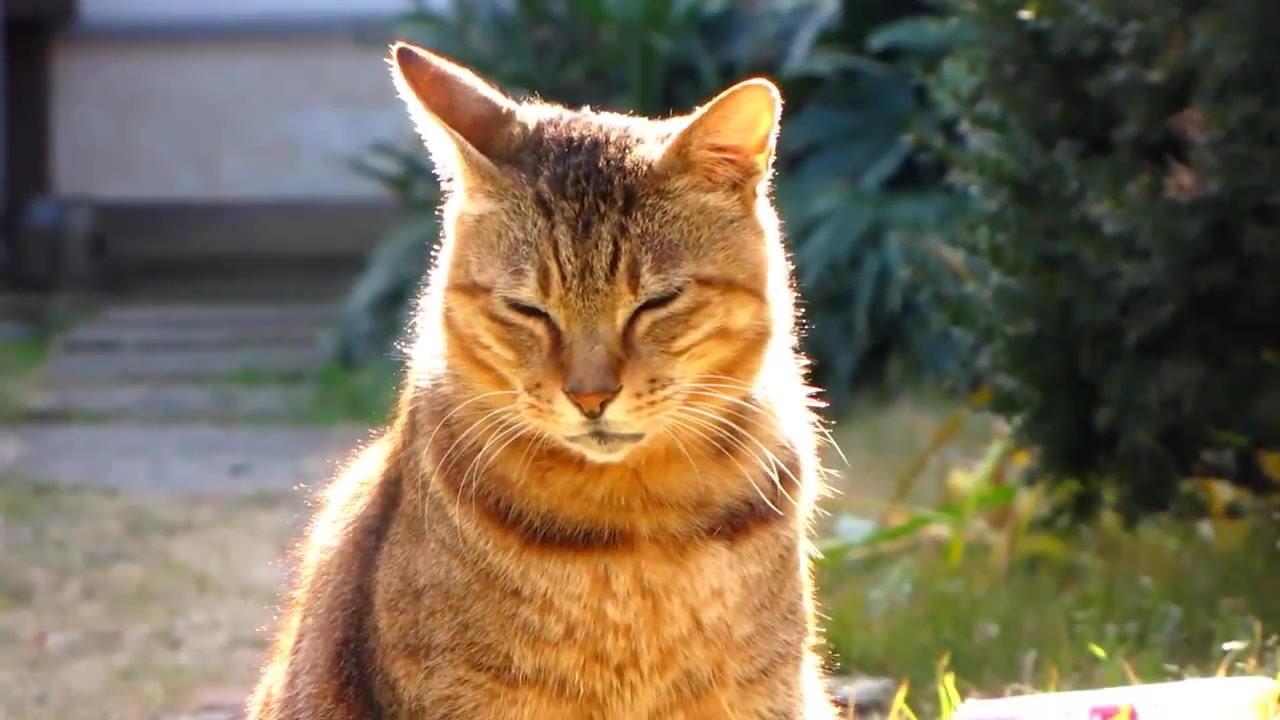cat: (248, 45, 842, 720)
